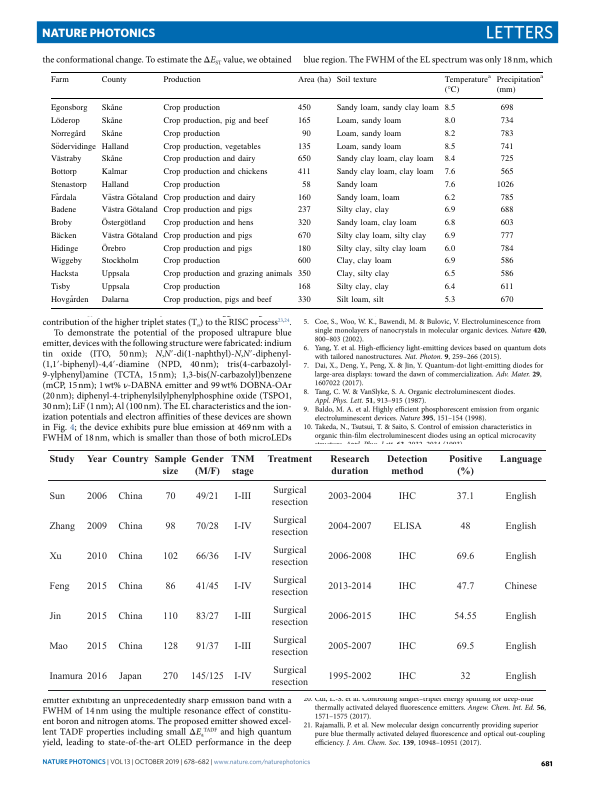borderless: (47, 449, 546, 690), (50, 70, 543, 308)
cell: (162, 269, 293, 279), (162, 295, 272, 305), (443, 73, 492, 95), (495, 73, 544, 95), (162, 116, 269, 126), (162, 167, 268, 177), (335, 104, 440, 114), (162, 142, 261, 152), (335, 155, 434, 165), (335, 167, 434, 177), (386, 455, 428, 478), (329, 455, 370, 478), (162, 155, 256, 165), (162, 193, 256, 203), (270, 515, 309, 539), (162, 218, 254, 228), (335, 231, 427, 241), (335, 244, 427, 254), (162, 206, 253, 216), (162, 231, 253, 241), (162, 244, 253, 254), (270, 486, 309, 509), (270, 545, 309, 568), (270, 575, 309, 598), (270, 605, 309, 628), (270, 635, 309, 658), (270, 665, 309, 688), (335, 218, 417, 228), (448, 455, 483, 478), (153, 455, 187, 478), (190, 455, 224, 478), (335, 116, 402, 126), (335, 129, 402, 139), (335, 142, 402, 152), (335, 193, 400, 203), (162, 104, 221, 114), (162, 129, 221, 139), (162, 180, 221, 190), (162, 257, 221, 267), (162, 282, 221, 292), (100, 193, 158, 203), (100, 206, 158, 216), (100, 231, 158, 241), (230, 455, 255, 478), (335, 257, 392, 267), (335, 269, 390, 279), (335, 206, 389, 216), (335, 282, 389, 292), (327, 521, 372, 533), (266, 455, 313, 466), (100, 217, 146, 228), (498, 455, 543, 466), (327, 492, 372, 503), (327, 551, 372, 562), (327, 581, 372, 592), (327, 611, 372, 622), (327, 641, 372, 652), (327, 671, 372, 682), (335, 295, 384, 305), (50, 142, 97, 152), (335, 180, 378, 190), (335, 75, 377, 85), (111, 455, 149, 466), (504, 521, 537, 533), (162, 75, 201, 85), (100, 257, 139, 267), (50, 295, 89, 305), (503, 581, 538, 592), (48, 671, 83, 682), (50, 104, 88, 114), (190, 671, 224, 682), (50, 180, 87, 190), (504, 492, 537, 503), (504, 551, 537, 562), (504, 611, 537, 622), (504, 641, 537, 652), (504, 671, 537, 682), (50, 129, 86, 139), (392, 521, 422, 533), (297, 75, 332, 85), (48, 521, 76, 533), (50, 257, 83, 267), (50, 155, 82, 165), (100, 242, 126, 254), (117, 521, 143, 533), (50, 116, 80, 126), (100, 269, 130, 279), (100, 282, 130, 292), (48, 455, 75, 466), (100, 142, 129, 152), (100, 180, 129, 190), (50, 244, 79, 254), (50, 269, 79, 279), (100, 295, 129, 305), (195, 521, 219, 533), (117, 492, 143, 503), (117, 551, 143, 562), (117, 581, 143, 592), (117, 611, 143, 622), (117, 641, 143, 652), (100, 167, 128, 177), (100, 75, 127, 85), (50, 167, 77, 177), (50, 193, 77, 203), (50, 206, 77, 216), (50, 231, 77, 241), (195, 492, 219, 503), (86, 521, 108, 533), (195, 551, 219, 562), (195, 581, 219, 592), (195, 611, 219, 622), (453, 611, 477, 622), (195, 641, 219, 652), (118, 671, 142, 682), (100, 103, 123, 114), (100, 154, 123, 165), (86, 455, 108, 466), (85, 492, 107, 503), (85, 551, 107, 562), (48, 581, 70, 592), (86, 581, 108, 592), (86, 611, 108, 622), (86, 641, 108, 652), (86, 671, 108, 682), (100, 116, 123, 126), (100, 129, 123, 139), (50, 218, 73, 228), (233, 521, 252, 533), (397, 492, 417, 503), (455, 492, 475, 503), (397, 551, 417, 562), (455, 551, 475, 562), (397, 581, 417, 592), (455, 581, 475, 592), (397, 611, 417, 622), (48, 641, 68, 652), (397, 641, 417, 652), (455, 641, 475, 652), (397, 671, 417, 682), (50, 282, 71, 292), (233, 492, 252, 503), (233, 551, 252, 562), (233, 581, 252, 592), (233, 611, 252, 622), (233, 641, 252, 652), (233, 671, 252, 682), (49, 75, 69, 85), (48, 492, 66, 503), (495, 180, 514, 190), (162, 551, 179, 562), (162, 641, 179, 652), (162, 671, 179, 682), (162, 611, 178, 622), (48, 551, 62, 562), (48, 611, 62, 622), (499, 104, 514, 114), (499, 116, 514, 126), (499, 129, 514, 139), (499, 142, 514, 152), (499, 155, 514, 165), (499, 167, 514, 177), (499, 193, 514, 203), (499, 206, 514, 216), (499, 218, 514, 228), (499, 231, 514, 241), (499, 244, 514, 254), (499, 257, 514, 267), (499, 269, 514, 279), (499, 282, 514, 292), (499, 295, 514, 305), (164, 521, 176, 533), (459, 521, 471, 533), (297, 104, 311, 114), (297, 116, 311, 126), (297, 142, 311, 152), (297, 155, 311, 165), (297, 167, 311, 177), (297, 193, 311, 203), (297, 206, 311, 216), (297, 218, 311, 228), (297, 231, 311, 241), (297, 244, 311, 254), (297, 257, 311, 267), (297, 269, 311, 279), (297, 282, 311, 292), (297, 295, 311, 305), (164, 492, 176, 503), (164, 581, 176, 592), (459, 671, 471, 682), (443, 104, 456, 114), (443, 116, 456, 126), (443, 129, 456, 139), (443, 142, 456, 152), (443, 155, 456, 165), (443, 167, 456, 177), (443, 180, 456, 190), (443, 193, 456, 203), (443, 206, 456, 216), (443, 218, 456, 228), (443, 231, 456, 241), (443, 244, 456, 254), (443, 257, 456, 267), (443, 269, 456, 279), (443, 282, 456, 292), (443, 295, 456, 305), (301, 129, 311, 139), (301, 180, 311, 190)
